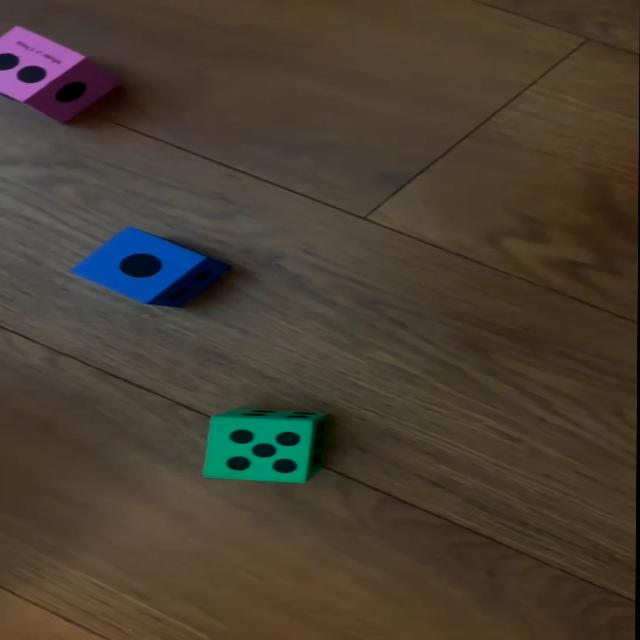blue_block: (69, 225, 229, 308)
